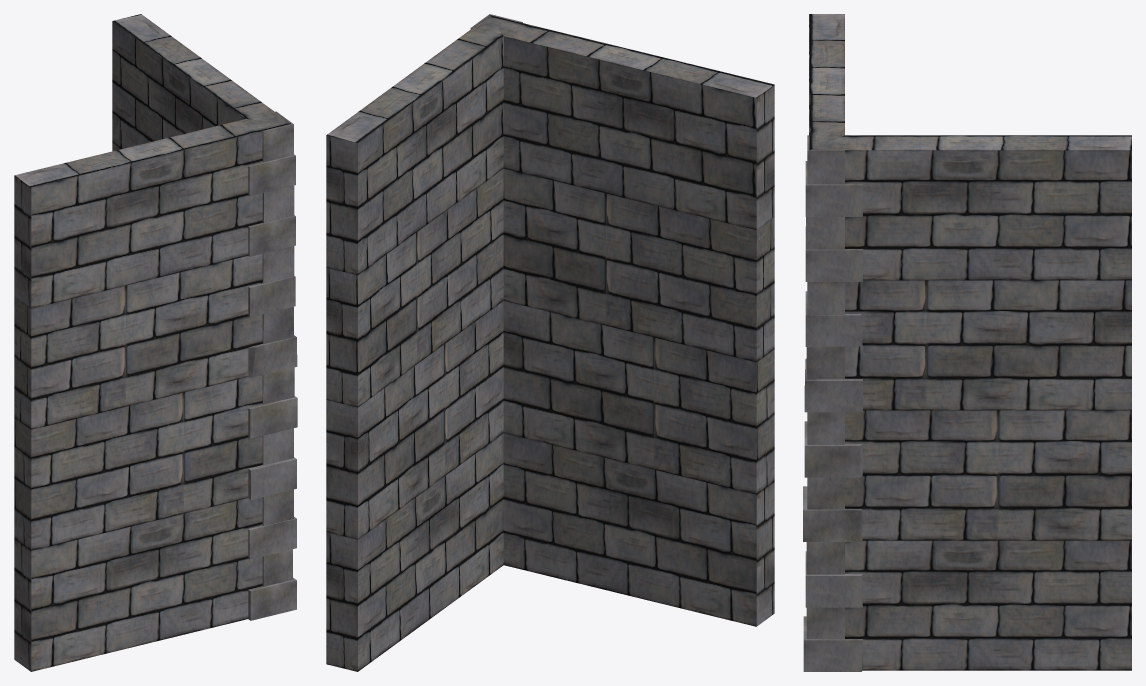
File: wall_corner_02.glb
The picture shows the model from 3 angles, left to right: view 1: azimuth 30°, elevation 25°; view 2: azimuth 150°, elevation 25°; view 3: azimuth 270°, elevation 25°; orthographic projection. The views are drawn at different scales.
Parts seen in each view (by area): view 1: wall_corner_02; view 2: wall_corner_02; view 3: wall_corner_02.
Boxes of the visible parts, box(x1,y1,x2,y2) form: wall_corner_02: box(14, 14, 297, 671); wall_corner_02: box(326, 14, 774, 671); wall_corner_02: box(803, 14, 1131, 671).
Size of the model in its own units: 9.13 by 16 by 9.17.
1 material, 1 textured.
